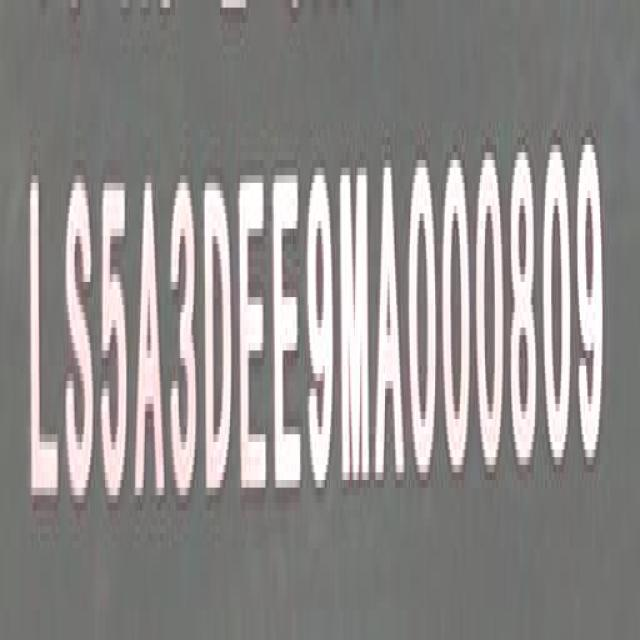0: (442, 150, 475, 481), (474, 151, 506, 480), (544, 141, 574, 473), (409, 156, 439, 484)
3: (169, 174, 202, 511)
5: (100, 172, 130, 513)
8: (510, 148, 540, 476)
9: (304, 161, 338, 499), (578, 140, 606, 472)
A: (377, 155, 409, 489), (136, 170, 166, 512)
D: (204, 181, 232, 494)
E: (238, 169, 272, 508), (272, 169, 304, 504)
L: (28, 173, 64, 518)
M: (340, 163, 374, 493)
S: (64, 175, 96, 516)
